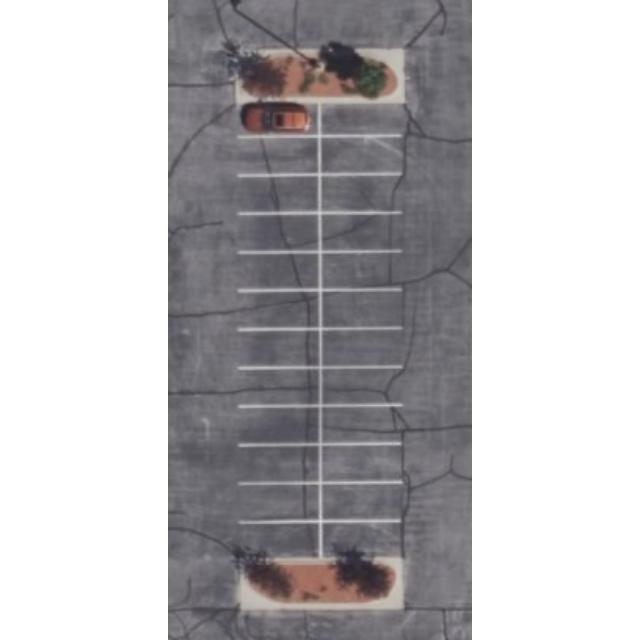Empty: (239, 252, 321, 292), (239, 290, 321, 330), (239, 328, 321, 368), (323, 520, 403, 560), (322, 328, 402, 368), (238, 368, 322, 406), (322, 443, 402, 482), (238, 136, 320, 174), (238, 174, 320, 212), (238, 214, 320, 252), (240, 483, 322, 521), (238, 522, 320, 560), (321, 366, 403, 404), (240, 406, 320, 444), (322, 482, 402, 520), (322, 405, 402, 443), (320, 290, 400, 328), (320, 252, 400, 290), (242, 445, 321, 483), (322, 213, 401, 251), (322, 174, 401, 212), (321, 136, 401, 172), (321, 101, 401, 135)
Parked: (238, 100, 318, 136)
